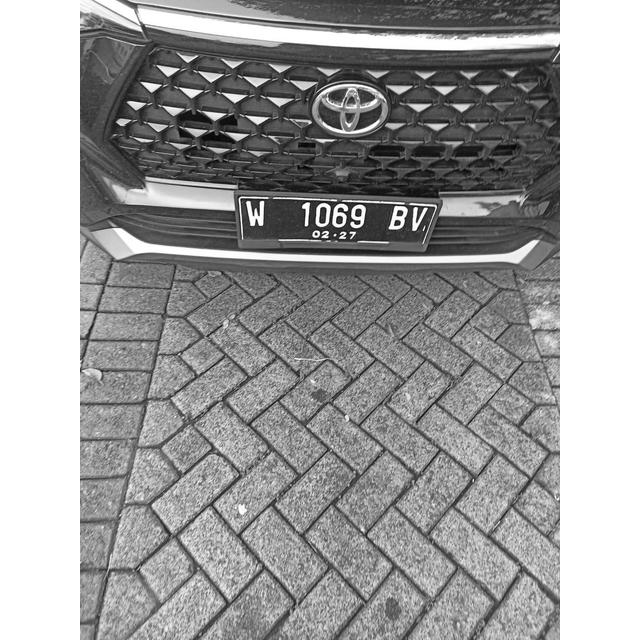license: (242, 199, 430, 238)
